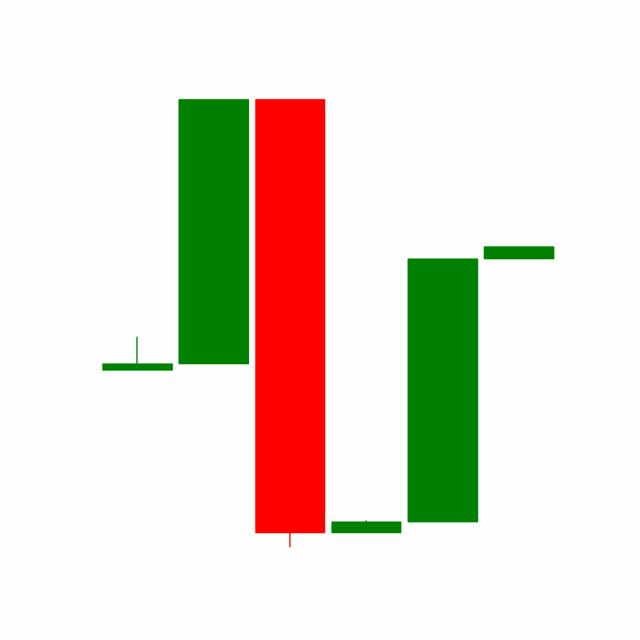Marubozu: (403, 255, 481, 524)
